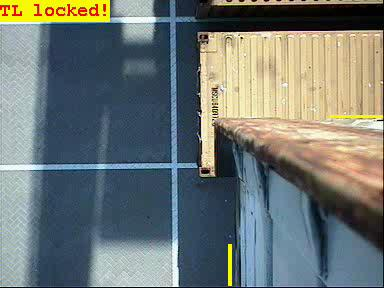groundmarker_2: (1, 165, 126, 288)
